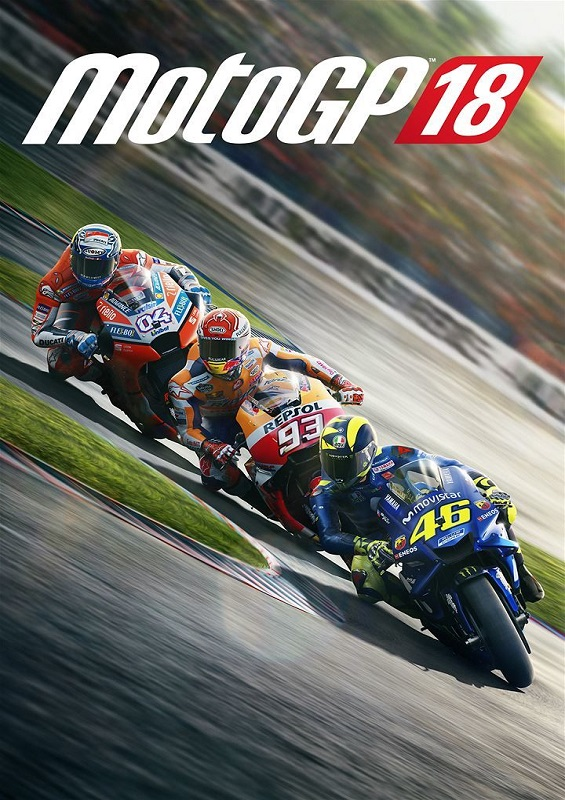helmet: (319, 406, 381, 482), (62, 213, 116, 289), (197, 297, 246, 377)
